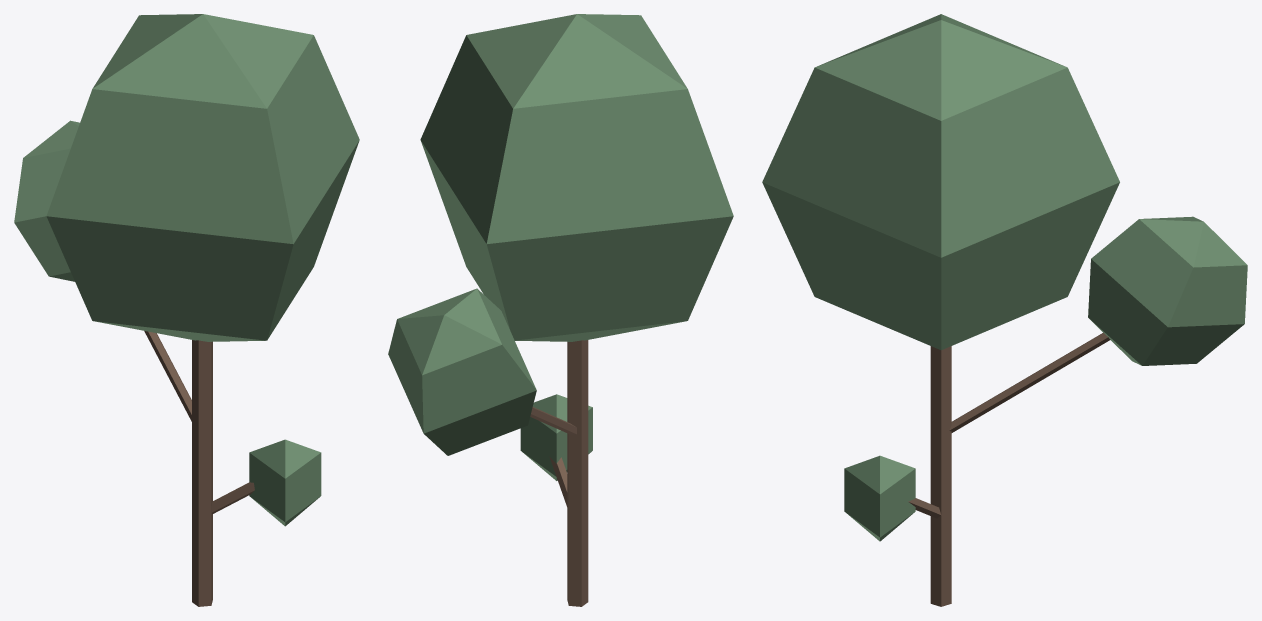
File: tree_4.fbx
The picture shows the model from 3 angles, left to right: view 1: azimuth 30°, elevation 25°; view 2: azimuth 150°, elevation 25°; view 3: azimuth 270°, elevation 25°; orthographic projection.
Parts seen in each view (by area): view 1: pSphere11; view 2: pSphere11; view 3: pSphere11.
Boxes of the visible parts, box(x1,y1,x2,y2) form: pSphere11: box(14, 14, 359, 606); pSphere11: box(388, 14, 733, 606); pSphere11: box(762, 14, 1247, 606).
Size of the model in its own units: 90.09 by 162 by 122.
